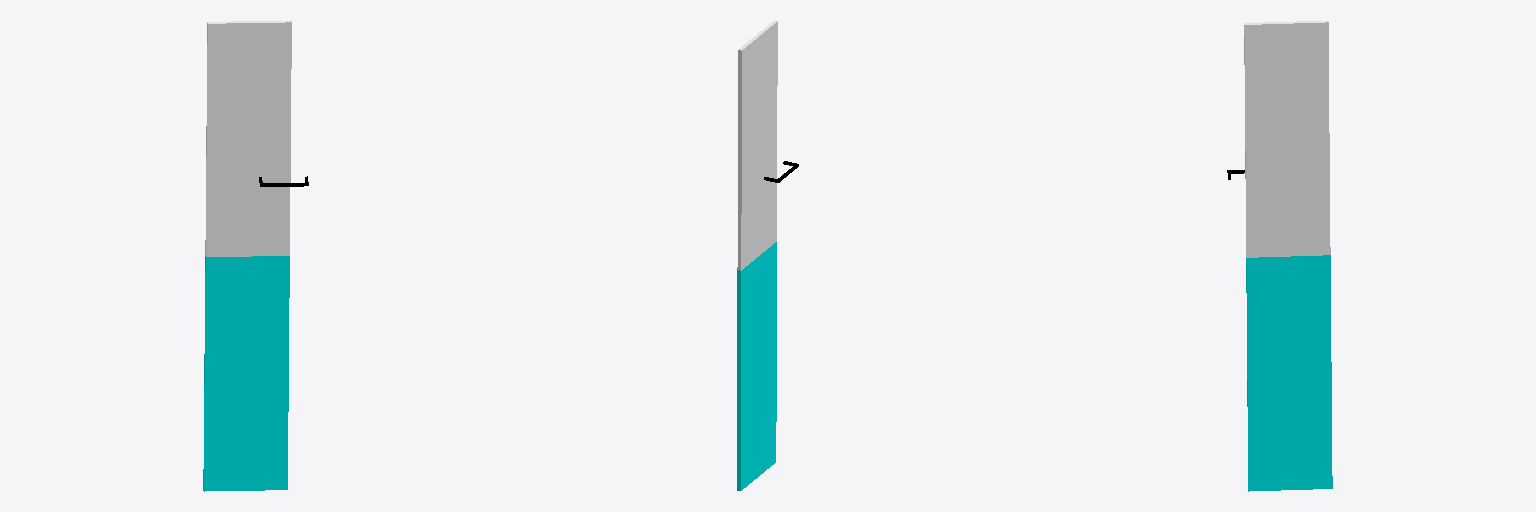
The robot description file, URDF, robot "shelf":
<?xml version="1.0" encoding="utf-8"?>
<!-- =================================================================================== -->
<!-- |    This document was autogenerated by xacro from shelf.urdf.xacro               | -->
<!-- |    EDITING THIS FILE BY HAND IS NOT RECOMMENDED                                 | -->
<!-- =================================================================================== -->
<robot name="shelf">
  <link name="world"/>
  <joint name="fixed" type="fixed">
    <parent link="world"/>
    <child link="shelf"/>
    <origin rpy="-0.008 -0.001 -3.085" xyz="0.943 -0.952 0.903"/>
  </joint>
  <link name="shelf">
    <inertial>
      <origin rpy="0 0 0" xyz="0 0 0"/>
      <mass value="5"/>
      <inertia ixx="0.375863761" ixy="0" ixz="0" iyy="0.3397244725" iyz="0" izz="0.375863761"/>
    </inertial>
    <visual>
      <origin rpy="0 0 0" xyz="0 -0.1475 -0.4515"/>
      <geometry>
        <box size="0.016 0.295 0.903"/>
      </geometry>
      <material name="shelf_material">
        <color rgba="0.0 1.0 1.0 1"/>
      </material>
    </visual>
    <collision>
      <origin rpy="0 0 0" xyz="0 -0.1475 -0.4515"/>
      <geometry>
        <box size="0.016 0.295 0.903"/>
      </geometry>
    </collision>
  </link>
  <link name="door">
    <inertial>
      <origin rpy="0 0 0" xyz="0 0 0"/>
      <mass value="5.8"/>
      <inertia ixx="0.4333886585" ixy="0" ixz="0" iyy="0.39146708384" iyz="0" izz="0.4333886585"/>
    </inertial>
    <visual>
      <origin rpy="0 0 0" xyz="0 0.1475 0"/>
      <geometry>
        <box size="0.016 0.295 0.9"/>
      </geometry>
      <material name="door_material">
        <color rgba="1.0 1.0 1.0 1"/>
      </material>
    </visual>
    <collision>
      <origin rpy="0 0 0" xyz="0 0.1475 0"/>
      <geometry>
        <box size="0.016 0.295 0.9"/>
      </geometry>
      <material name="">
        <contact name="rubber"/>
      </material>
    </collision>
  </link>
  <link name="door_hinge">
    <inertial>
      <mass value="0.01"/>
      <origin rpy="0 0 0" xyz="0 0 0"/>
      <inertia ixx="0.0" ixy="0.0" ixz="0.0" iyy="0.0" iyz="0.0" izz="0.0"/>
    </inertial>
  </link>
  <joint name="door_hinge_joint" type="fixed">
    <parent link="shelf"/>
    <child link="door_hinge"/>
    <dynamics damping="2.0" friction="8.0"/>
    <origin xyz="0 -0.295 0.45"/>
  </joint>
  <link name="axis_link">
    <inertial>
      <mass value="0.01"/>
      <origin rpy="0 0 0" xyz="0 0 0"/>
      <inertia ixx="0.0" ixy="0.0" ixz="0.0" iyy="0.0" iyz="0.0" izz="0.0"/>
    </inertial>
  </link>
  <joint name="axis_joint" type="fixed">
    <parent link="door_hinge"/>
    <child link="axis_link"/>
    <origin xyz="0.004 0.027 -0.150"/>
  </joint>
  <joint name="articulation_joint" type="revolute">
    <parent link="axis_link"/>
    <child link="measured_joint_link"/>
    <dynamics damping="2.0" friction="4.0"/>
    <origin xyz="0 0 0"/>
    <axis xyz="0 0 -1"/>
    <limit effort="100" lower="0" upper="1.57" velocity="10.0"/>
  </joint>
  <joint name="door_link" type="fixed">
    <parent link="measured_joint_link"/>
    <child link="door"/>
    <origin xyz="-0.004 -0.027 0.150"/>
  </joint>
  <link name="handle_link">
    <inertial>
      <origin rpy="0 0 0" xyz="0 0 0"/>
      <mass value="0.1"/>
      <inertia ixx="0.001" ixy="0" ixz="0" iyy="0.001" iyz="0" izz="0.001"/>
    </inertial>
    <visual>
      <origin rpy="0 0 0" xyz="0 0 0"/>
      <geometry>
        <box size="0.01 0.01 0.17"/>
      </geometry>
      <material name="handle_material">
        <color rgba="0.0 0.0 0.0 1"/>
      </material>
    </visual>
    <collision>
      <origin rpy="0 0 0" xyz="0 0 0"/>
      <geometry>
        <box size="0.01 0.01 0.17"/>
      </geometry>
      <material name="">
        <contact name="rubber"/>
      </material>
    </collision>
  </link>
  <link name="handle_support_left">
    <inertial>
      <origin rpy="0 0 0" xyz="0 0 0"/>
      <mass value="0.1"/>
      <inertia ixx="0.001" ixy="0" ixz="0" iyy="0.001" iyz="0" izz="0.001"/>
    </inertial>
    <visual>
      <origin rpy="0 0 0" xyz="0 0 0"/>
      <geometry>
        <box size="0.056 0.01 0.01"/>
      </geometry>
      <material name="handle_material">
        <color rgba="0.0 0.0 0.0 1"/>
      </material>
    </visual>
    <collision>
      <origin rpy="0 0 0" xyz="0 0 0"/>
      <geometry>
        <box size="0.056 0.01 0.01"/>
      </geometry>
      <material name="">
        <contact name="steel"/>
      </material>
    </collision>
  </link>
  <link name="handle_support_right">
    <inertial>
      <origin rpy="0 0 0" xyz="0 0 0"/>
      <mass value="0.1"/>
      <inertia ixx="0.001" ixy="0" ixz="0" iyy="0.001" iyz="0" izz="0.001"/>
    </inertial>
    <visual>
      <origin rpy="0 0 0" xyz="0 0 0"/>
      <geometry>
        <box size="0.056 0.01 0.01"/>
      </geometry>
      <material name="handle_material">
        <color rgba="0.0 0.0 0.0 1"/>
      </material>
    </visual>
    <collision>
      <origin rpy="0 0 0" xyz="0 0 0"/>
      <geometry>
        <box size="0.056 0.01 0.01"/>
      </geometry>
      <material name="">
        <contact name="steel"/>
      </material>
    </collision>
  </link>
  <joint name="handle_joint" type="fixed">
    <parent link="door"/>
    <child link="handle_link"/>
    <origin rpy="1.57 0 0" xyz="0.064 0.27 -0.15"/>
    <!-- height handle + half the width door, 0.30 minus some offset -->
  </joint>
  <joint name="handle_ref" type="fixed">
    <parent link="handle_link"/>
    <child link="handle_ref"/>
    <origin rpy="0 0 0" xyz="-0.028 0 0"/>
    <!-- height handle + half the width door, 0.30 minus some offset -->
  </joint>
  <link name="handle_ref">
    <inertial>
      <mass value="0.01"/>
      <origin rpy="0 0 0" xyz="0 0 0"/>
      <inertia ixx="0.0" ixy="0.0" ixz="0.0" iyy="0.0" iyz="0.0" izz="0.0"/>
    </inertial>
  </link>
  <joint name="handle_support_left_joint" type="fixed">
    <parent link="handle_link"/>
    <child link="handle_support_left"/>
    <origin rpy="0 0 0" xyz="-0.028 0 -0.08"/>
  </joint>
  <joint name="handle_support_right_joint" type="fixed">
    <parent link="handle_link"/>
    <child link="handle_support_right"/>
    <origin rpy="0 0 0" xyz="-0.028 0 0.08"/>
  </joint>
  <link name="measured_joint_link">
    <inertial>
      <mass value="0.01"/>
      <origin rpy="0 0 0" xyz="0 0 0"/>
      <inertia ixx="0.0" ixy="0.0" ixz="0.0" iyy="0.0" iyz="0.0" izz="0.0"/>
    </inertial>
  </link>
  <link name="measured_joint_link_test"/>
  <joint name="measured_test_handle_joint" type="fixed">
    <parent link="handle_link"/>
    <child link="measured_joint_link_test"/>
    <origin rpy="0 0 0" xyz="-0.06 -0.243 0.0"/>
  </joint>
</robot>

--- Facts derived from the render (not from the file) ---
3 views of the same robot in one strip: view 1: azimuth 90°, elevation 25°; view 2: azimuth 150°, elevation 25°; view 3: azimuth 270°, elevation 25° (orthographic).
Model shelf with 11 links and 10 joints (1 revolute, 9 fixed), rooted at world, posed all joints at 0.
Visible links, largest first — view 1: shelf, door; view 2: shelf, door; view 3: door, shelf.
Boxes of the visible links, x1,y1,x2,y2 form: shelf: [203, 256, 289, 491]; door: [205, 20, 291, 256]; shelf: [737, 242, 776, 490]; door: [737, 21, 777, 270]; door: [1244, 21, 1330, 257]; shelf: [1246, 255, 1332, 491].
Bounding box of the posed robot: 0.084 × 0.3684 × 1.81 m (x, y, z).
Geometry: primitives only (box / cylinder / sphere), no mesh files.